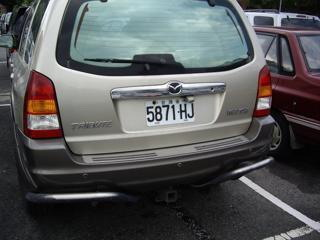plate: (143, 97, 197, 127)
